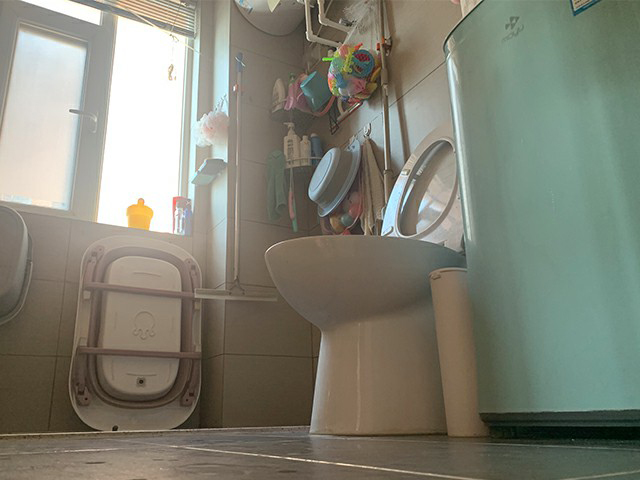closestool: (264, 119, 466, 437)
